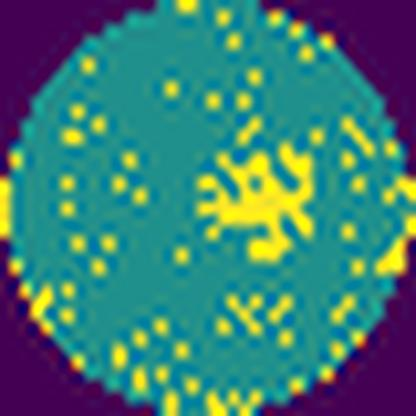Loc: (193, 143, 317, 263)
